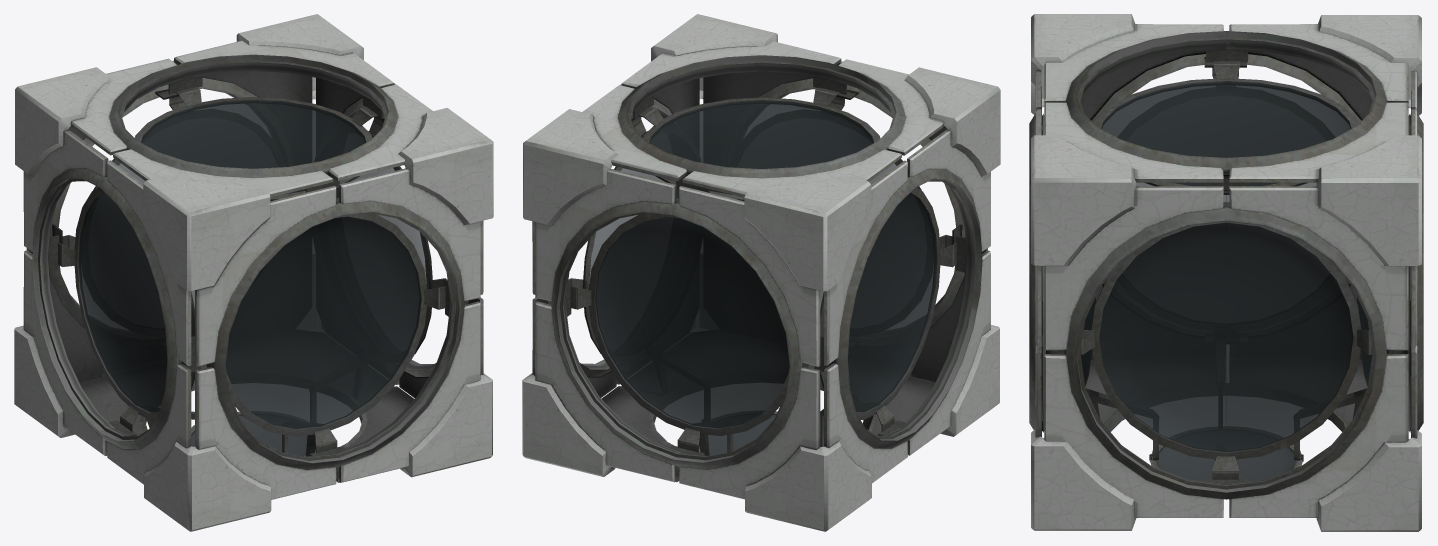
The model's file is reflection_cube.glb.
3 renders of one model, left to right at view 1: azimuth 30°, elevation 25°; view 2: azimuth 150°, elevation 25°; view 3: azimuth 270°, elevation 25°, orthographic. The views are drawn at different scales.
Visible parts, largest first — view 1: ~rF2ntnCN/smd/reflection_cube_reference.smd; view 2: ~rF2ntnCN/smd/reflection_cube_reference.smd; view 3: ~rF2ntnCN/smd/reflection_cube_reference.smd.
Part boxes in pixels (x1,y1,x2,y2): ~rF2ntnCN/smd/reflection_cube_reference.smd: [14, 14, 493, 531]; ~rF2ntnCN/smd/reflection_cube_reference.smd: [522, 14, 1000, 531]; ~rF2ntnCN/smd/reflection_cube_reference.smd: [1029, 14, 1423, 531].
Size of the model in its own units: 36.34 by 38.43 by 36.34.
Materials: 2 (2 with a texture image).
